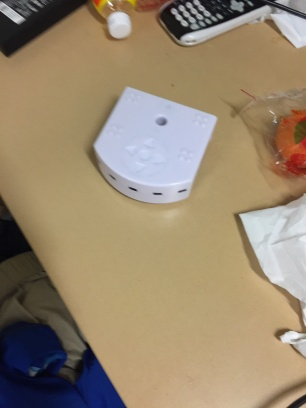thymio: (86, 83, 220, 206)
